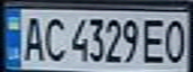2: (103, 15, 124, 64)
3: (87, 15, 106, 63)
4: (66, 14, 90, 63)
9: (121, 15, 142, 64)
A: (18, 12, 48, 63)
C: (39, 14, 69, 63)
E: (139, 16, 172, 65)
O: (160, 15, 190, 65)
